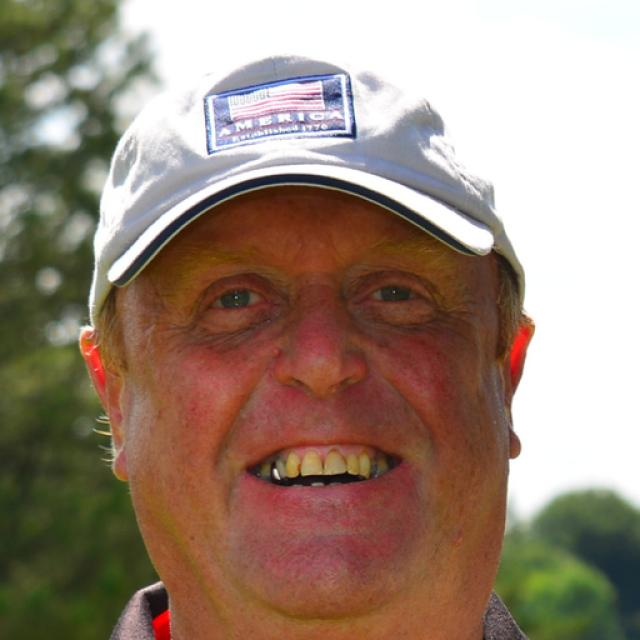Acne: (253, 341, 292, 359)
Pigmentation: (239, 475, 420, 574), (373, 327, 465, 427), (174, 339, 261, 418), (295, 290, 346, 362)
